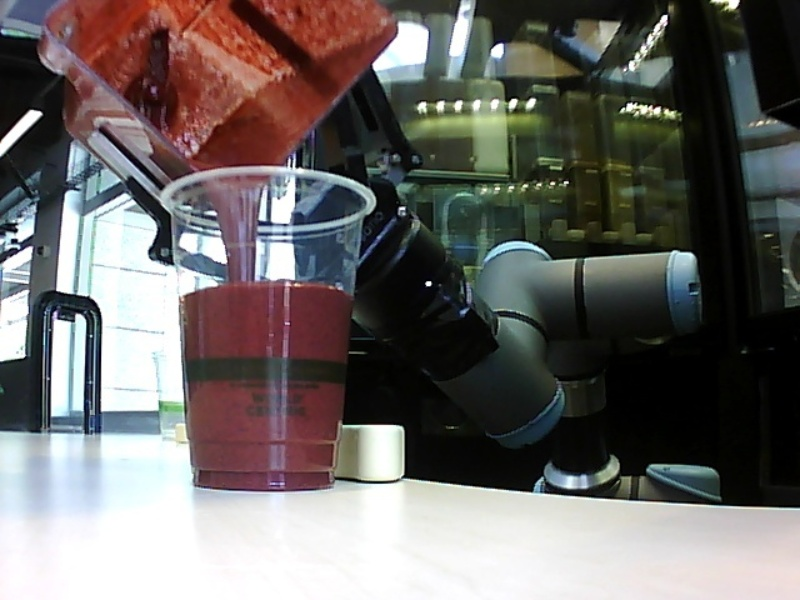cup: (155, 160, 378, 496)
limit: (173, 271, 355, 305)
